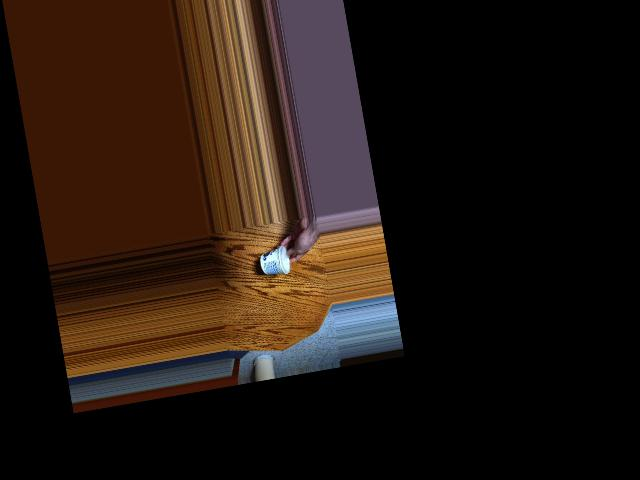cotage: (262, 244, 292, 280)
